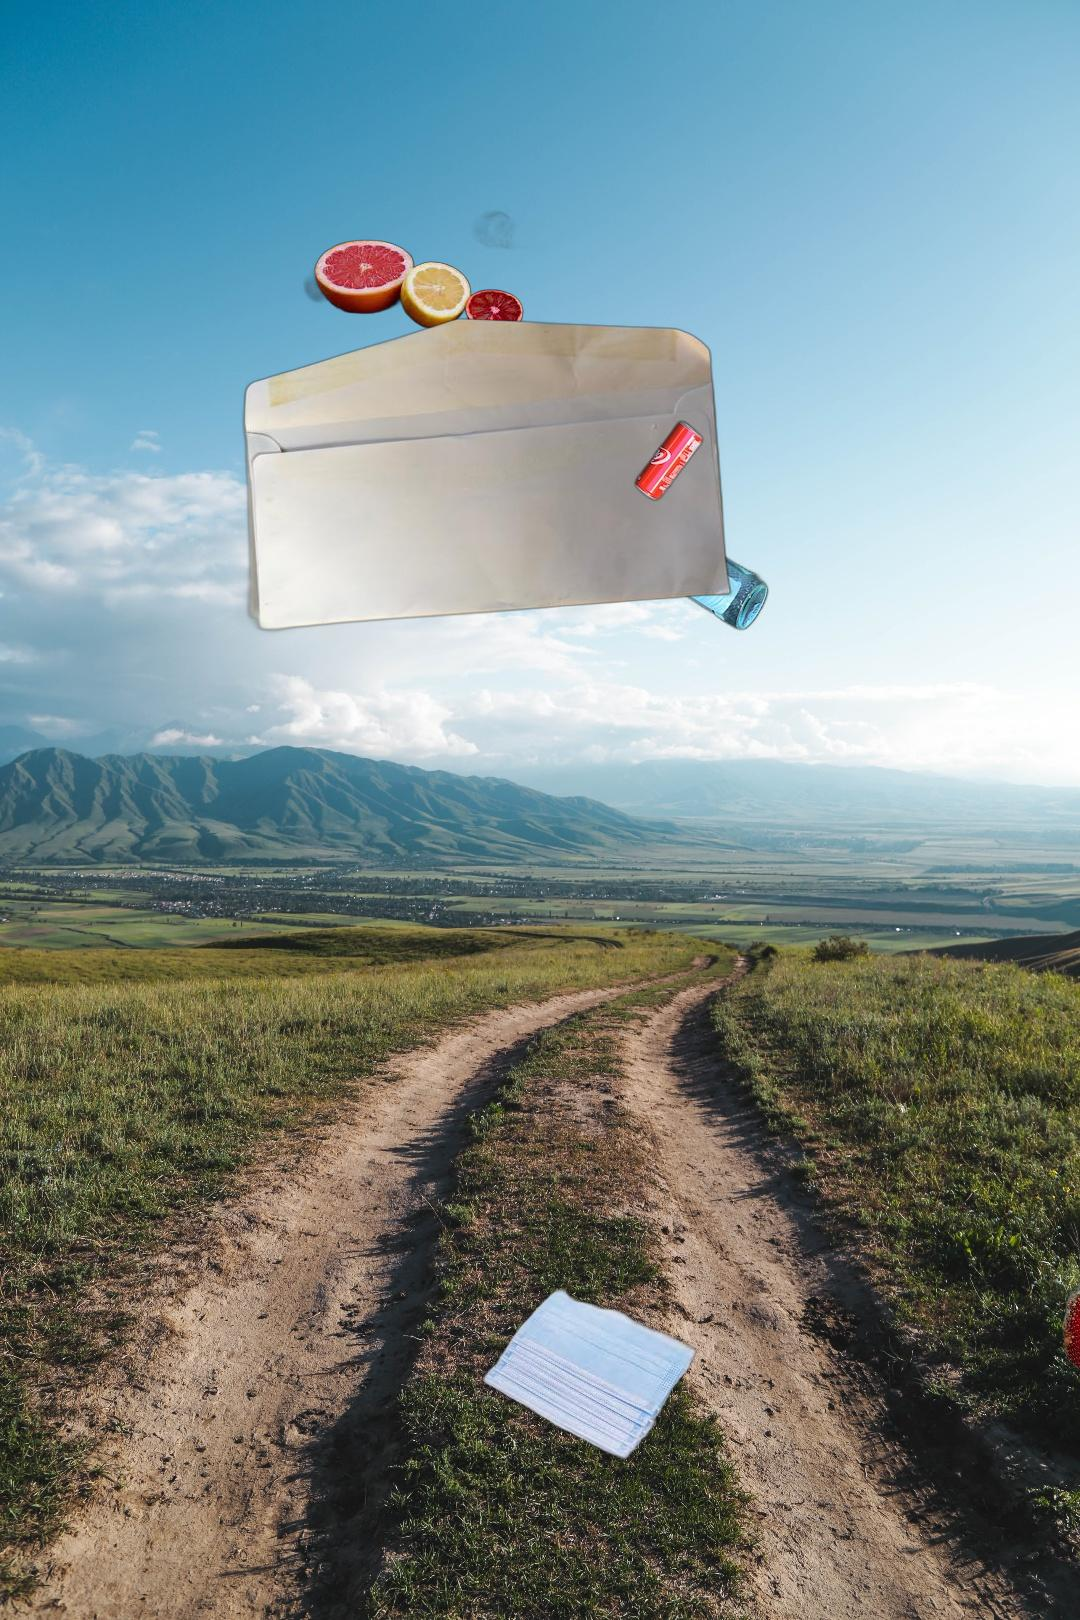biological: (303, 192, 569, 360), (978, 1258, 1080, 1436)
glass: (582, 494, 773, 635)
metal-cans: (370, 415, 708, 812)
paper: (236, 316, 735, 635)
trash: (476, 1282, 728, 1465)
